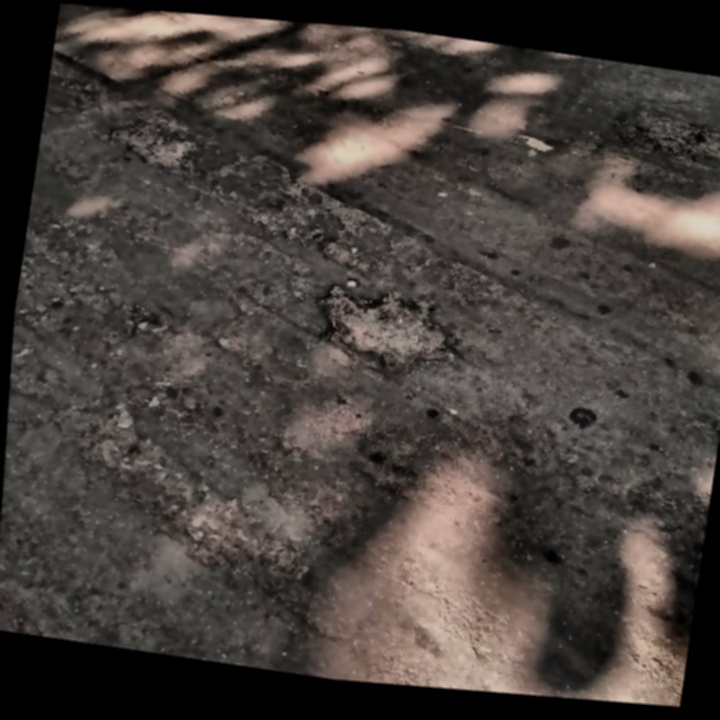pothole: (304, 269, 469, 384), (604, 97, 720, 174)
